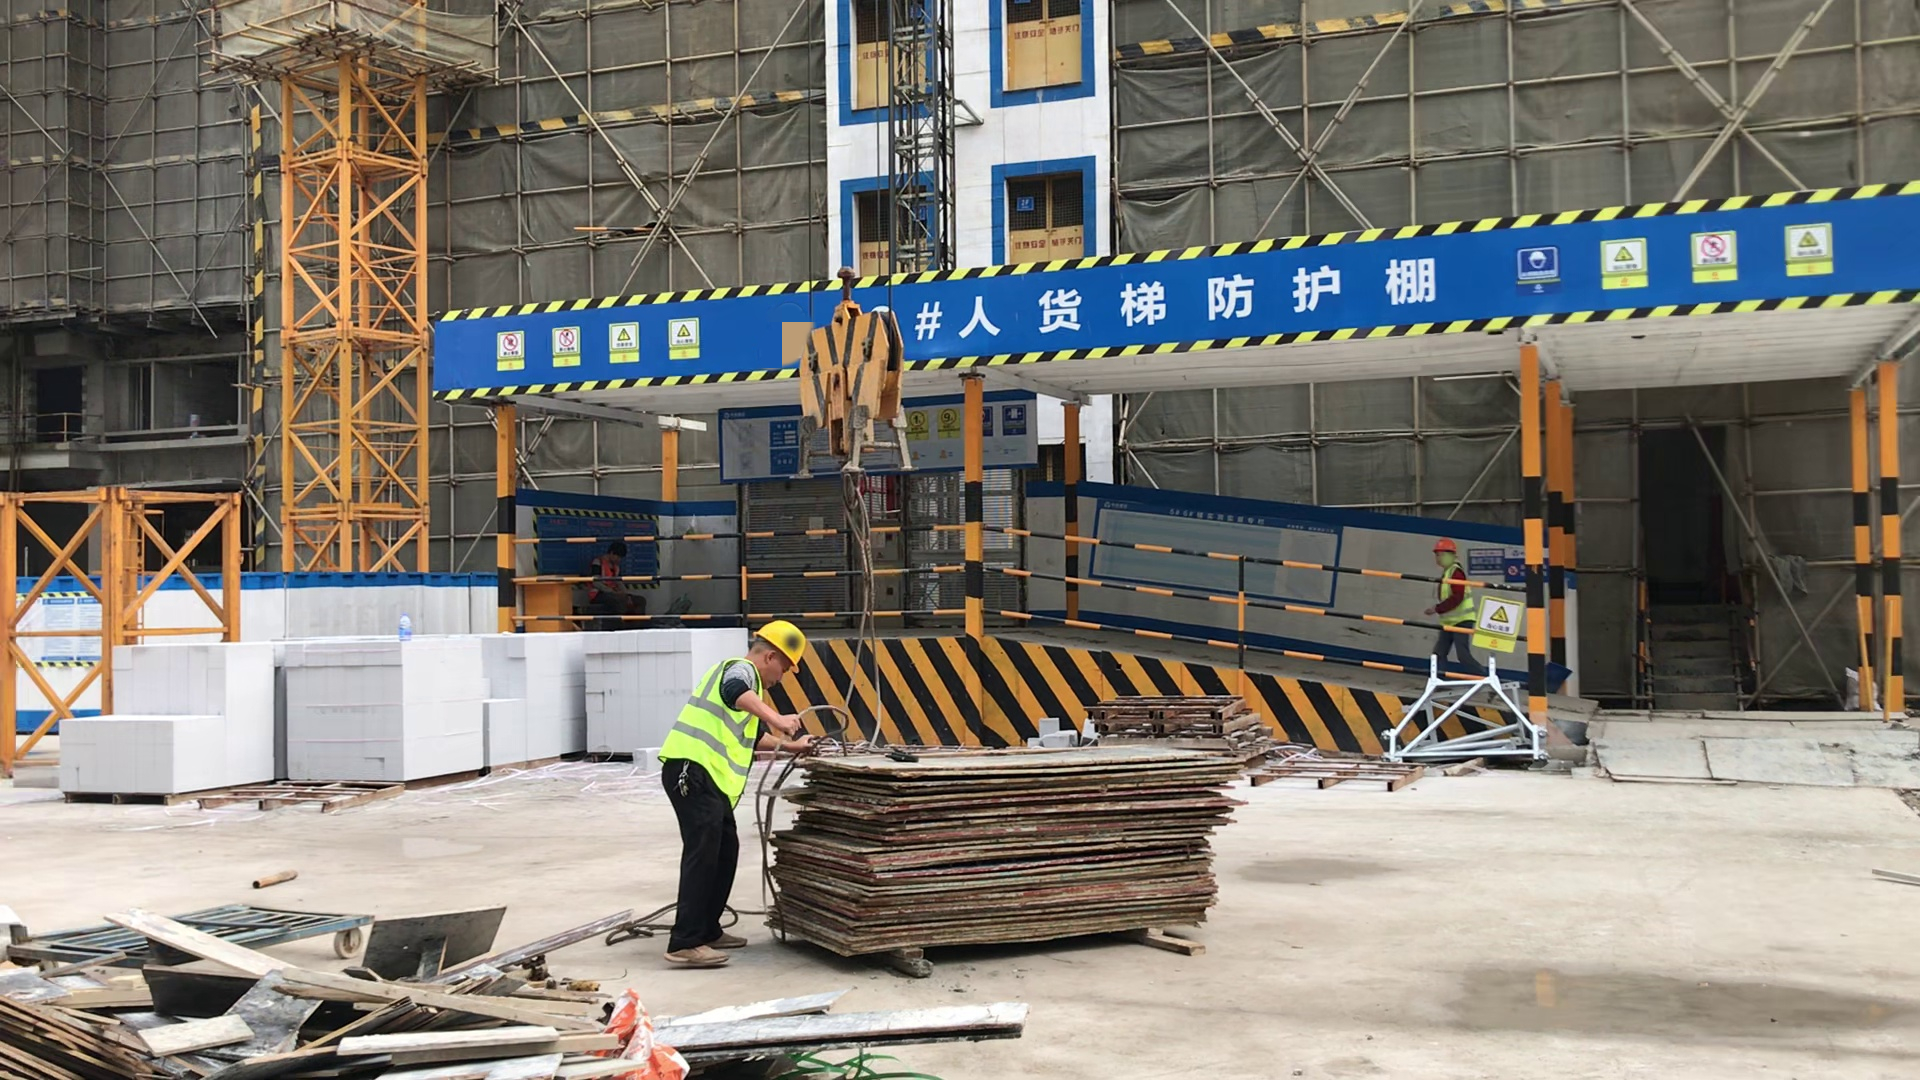board: (770, 742, 1255, 954)
brick: (63, 625, 748, 797)
helmet: (754, 618, 806, 675), (1434, 538, 1455, 554)
hook: (798, 299, 905, 513)
person: (664, 616, 822, 969), (1426, 537, 1477, 676)
slogan: (1516, 221, 1836, 298), (483, 316, 703, 367), (906, 407, 1037, 461), (1474, 594, 1521, 656), (1466, 547, 1527, 582)
vest: (666, 657, 751, 797), (1436, 566, 1472, 626)
